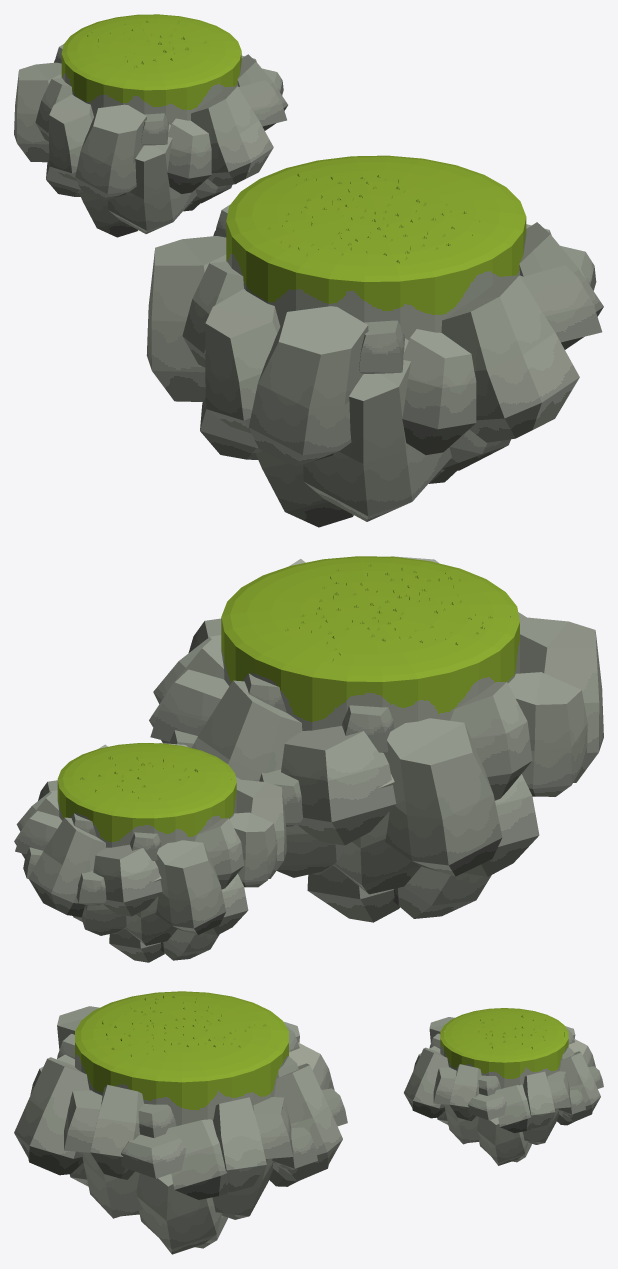
The model's file is W.island.gltf.
3 renders of one model, top to bottom at view 1: azimuth 30°, elevation 25°; view 2: azimuth 150°, elevation 25°; view 3: azimuth 270°, elevation 25°, orthographic. The views are drawn at different scales.
Visible parts, largest first — view 1: sphere (×2), l_3 (×5), l_4 (×7), l_2 (×3), l_1, l_5 (×4), l_6 (×3), l_7; view 2: sphere (×2), l_3 (×4), l_6 (×6), l_4 (×6), l_5 (×3), l_2 (×2), l_7 (×7), l_8 (×2), l_11, l_9; view 3: sphere (×2), l_4 (×5), l_2 (×4), l_3 (×4), l_5 (×5), l_1, r_5, l_9 (×2), l_10 (×2), r_6, l_8, l_7 (+2 smaller).
Boxes of the visible parts, bbox=[...] form: sphere (×2): bbox=[61, 14, 526, 340]; l_3 (×5): bbox=[75, 80, 603, 521]; l_4 (×7): bbox=[14, 54, 510, 527]; l_2 (×3): bbox=[191, 86, 602, 466]; l_1: bbox=[441, 275, 579, 442]; l_5 (×4): bbox=[49, 94, 405, 373]; l_6 (×3): bbox=[141, 113, 262, 459]; l_7: bbox=[35, 78, 72, 141]; sphere (×2): bbox=[57, 556, 519, 847]; l_3 (×4): bbox=[28, 669, 502, 917]; l_6 (×6): bbox=[93, 682, 539, 922]; l_4 (×6): bbox=[15, 635, 587, 934]; l_5 (×3): bbox=[160, 726, 396, 960]; l_2 (×2): bbox=[191, 617, 603, 782]; l_7 (×7): bbox=[109, 769, 343, 962]; l_8 (×2): bbox=[76, 871, 130, 935]; l_11: bbox=[244, 673, 286, 712]; l_9: bbox=[188, 618, 221, 652]; sphere (×2): bbox=[75, 991, 568, 1125]; l_4 (×5): bbox=[82, 1064, 571, 1218]; l_2 (×4): bbox=[57, 1006, 448, 1181]; l_3 (×4): bbox=[90, 1051, 600, 1179]; l_5 (×5): bbox=[212, 1042, 555, 1219]; l_1: bbox=[14, 1057, 89, 1175]; r_5: bbox=[136, 1173, 222, 1254]; l_9 (×2): bbox=[121, 1089, 585, 1178]; l_10 (×2): bbox=[138, 1093, 506, 1137]; r_6: bbox=[477, 1117, 528, 1165]; l_8: bbox=[272, 1127, 317, 1170]; l_7: bbox=[321, 1088, 347, 1126].
Bounding box in the file's own units: 70.21 × 52.66 × 129.
3 materials, 3 textured.
